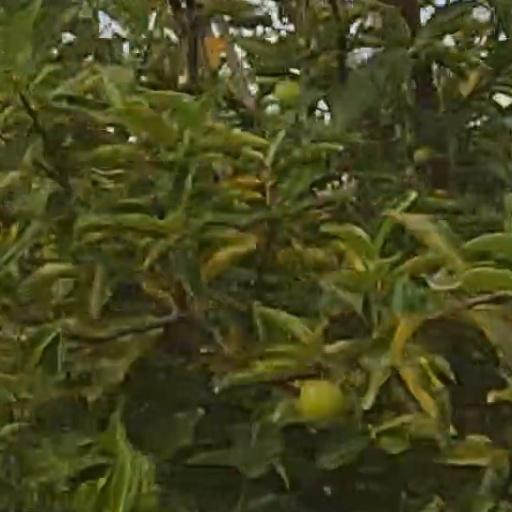acerola_verde: (299, 381, 345, 419), (276, 82, 298, 105)
